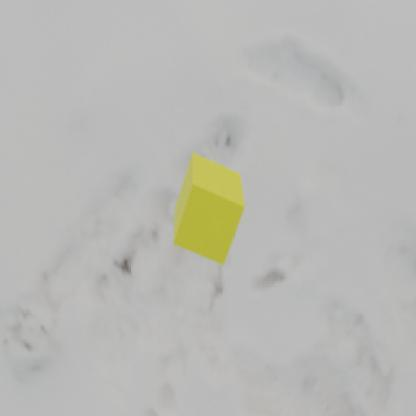yellow_cube: (172, 150, 244, 266)
